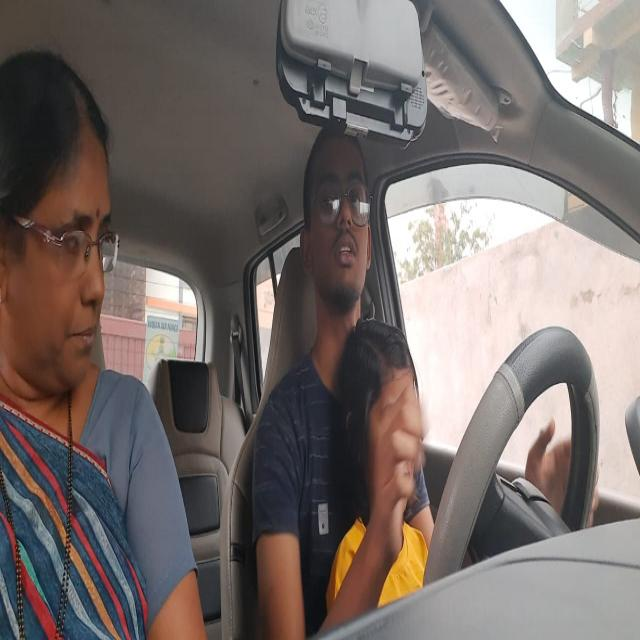child: (340, 321, 430, 510)
person: (0, 49, 116, 412), (300, 121, 373, 321)
